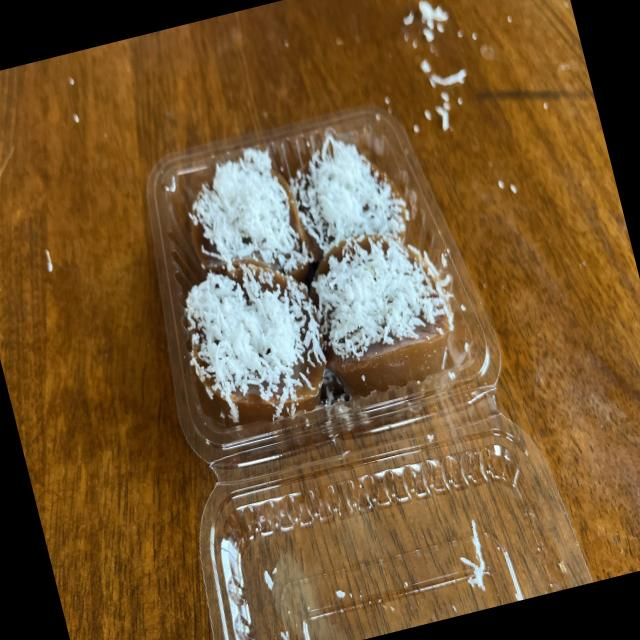Kuih lompang: (185, 259, 326, 423), (313, 232, 453, 396), (189, 147, 311, 282), (289, 132, 410, 261)
